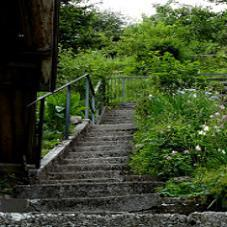Bench: (19, 144, 170, 221)
